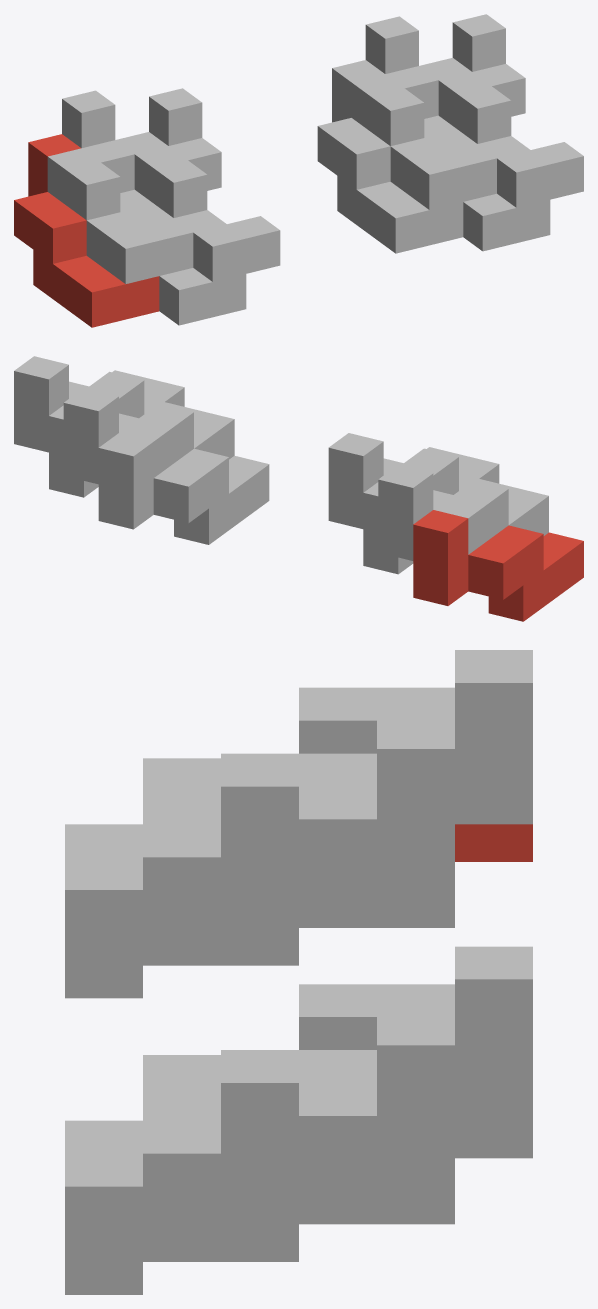
File: tiling.obj
3 renders of one model, top to bottom at view 1: azimuth 30°, elevation 25°; view 2: azimuth 150°, elevation 25°; view 3: azimuth 270°, elevation 25°, orthographic. The views are drawn at different scales.
Parts seen in each view (by area): view 1: copy_1_domain_3, copy_1_domain_7, copy_1_domain_4, copy_1_domain_8, copy_1_domain_5, copy_1_domain_1, copy_1_domain_2, copy_1_domain_6; view 2: copy_1_domain_5, copy_1_domain_1, copy_1_domain_7, copy_1_domain_3, copy_1_domain_4, copy_1_domain_8, copy_1_domain_2, copy_1_domain_6; view 3: copy_1_domain_8, copy_1_domain_4, copy_1_domain_3, copy_1_domain_7, copy_1_domain_6, copy_1_domain_2, copy_1_domain_5, copy_1_domain_1.
Boxes of the visible parts, x1=… form: copy_1_domain_3: x1=47, y1=90, x2=193, y2=283; copy_1_domain_7: x1=351, y1=16, x2=496, y2=209; copy_1_domain_4: x1=134, y1=88, x2=280, y2=281; copy_1_domain_8: x1=438, y1=14, x2=583, y2=207; copy_1_domain_5: x1=317, y1=60, x2=463, y2=253; copy_1_domain_1: x1=14, y1=134, x2=159, y2=327; copy_1_domain_2: x1=115, y1=132, x2=246, y2=325; copy_1_domain_6: x1=419, y1=57, x2=550, y2=251; copy_1_domain_5: x1=98, y1=433, x2=269, y2=544; copy_1_domain_1: x1=413, y1=510, x2=583, y2=621; copy_1_domain_7: x1=63, y1=388, x2=234, y2=484; copy_1_domain_3: x1=378, y1=464, x2=548, y2=560; copy_1_domain_4: x1=328, y1=433, x2=499, y2=528; copy_1_domain_8: x1=14, y1=356, x2=184, y2=452; copy_1_domain_2: x1=363, y1=482, x2=413, y2=574; copy_1_domain_6: x1=49, y1=405, x2=98, y2=497; copy_1_domain_8: x1=65, y1=1012, x2=454, y2=1257; copy_1_domain_4: x1=65, y1=716, x2=454, y2=960; copy_1_domain_3: x1=143, y1=650, x2=532, y2=824; copy_1_domain_7: x1=143, y1=946, x2=532, y2=1120; copy_1_domain_6: x1=65, y1=1186, x2=454, y2=1294; copy_1_domain_2: x1=65, y1=890, x2=454, y2=998; copy_1_domain_5: x1=455, y1=1120, x2=532, y2=1158; copy_1_domain_1: x1=455, y1=824, x2=532, y2=861.
Bounding box in the file's own units: 14 × 4 × 6.
